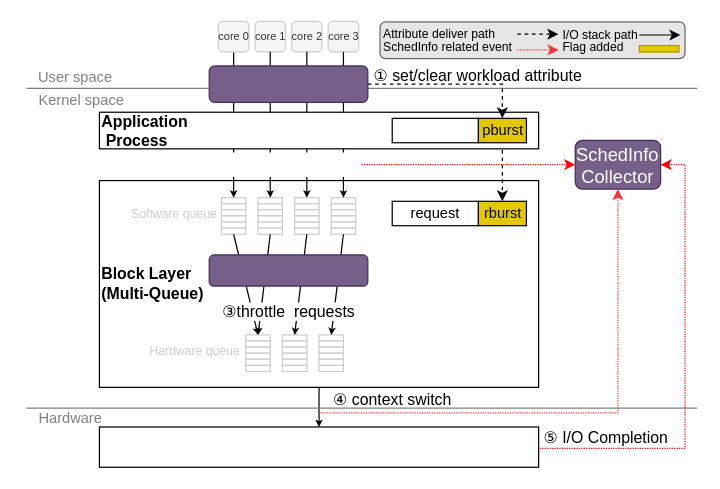
Some shapes in this 720 by 489 pixel diagram are drawn without their labels. Each missing label, with the centre of its shape:
Attribute APIs: the point at 288,83
Limiter: the point at 288,270
NVMe SSD: the point at 318,446
task_struct: the point at 434,130
② submit I/O: the point at 288,164
